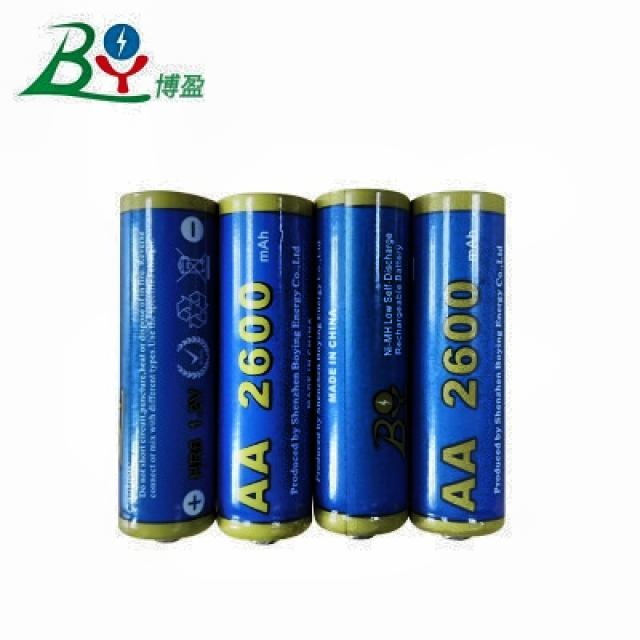Non-Valuable Waste - Batteries: (119, 191, 218, 541), (218, 192, 314, 543), (315, 189, 410, 537), (410, 191, 505, 538)
